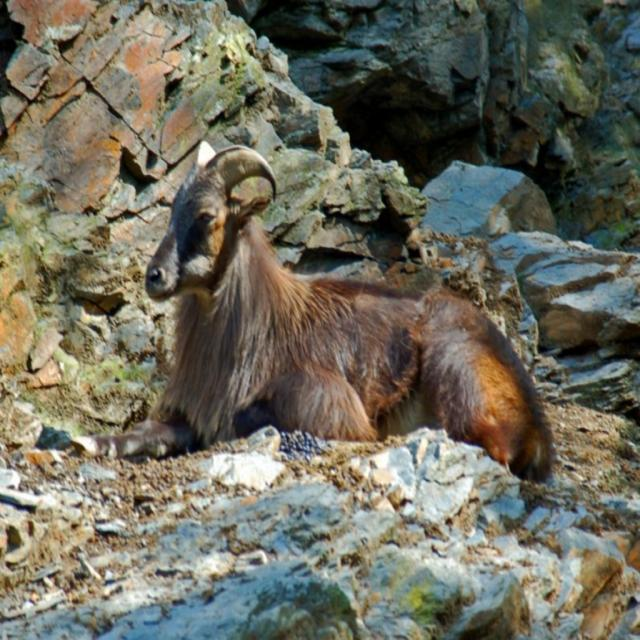Goat: (70, 140, 555, 480)
